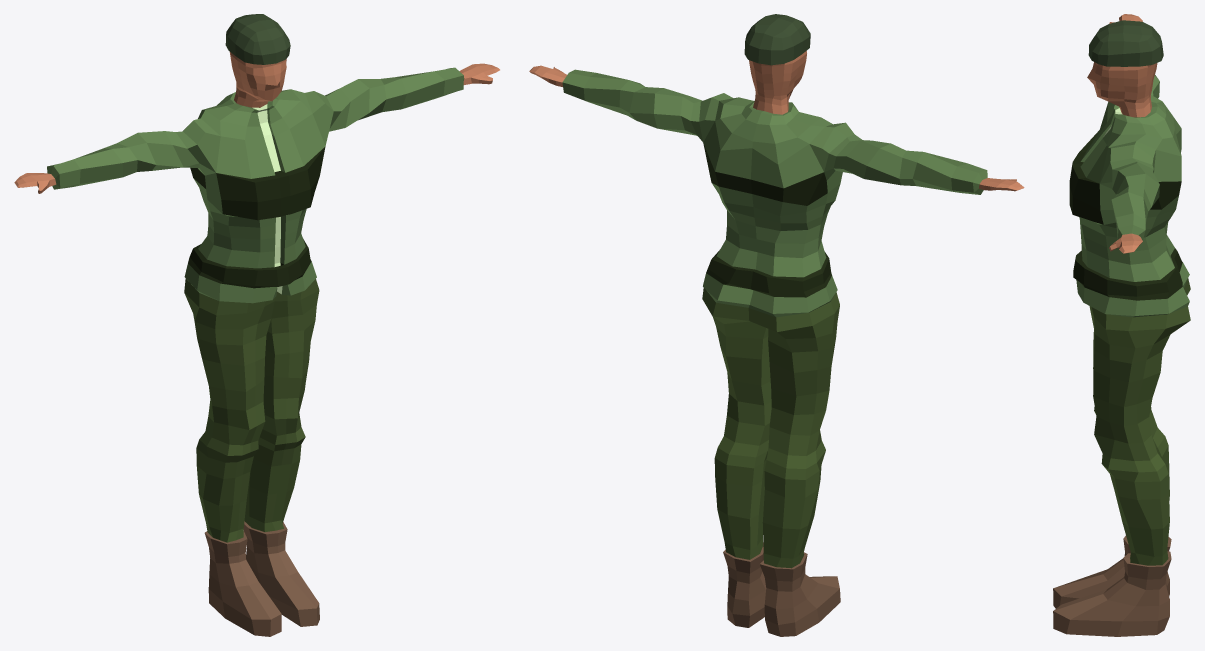
The model's file is Soldier.fbx.
The picture shows the model from 3 angles, left to right: view 1: azimuth 30°, elevation 25°; view 2: azimuth 150°, elevation 25°; view 3: azimuth 270°, elevation 25°; orthographic projection.
Parts seen in each view (by area): view 1: Upper Body Clothes; view 2: Upper Body Clothes; view 3: Upper Body Clothes.
Part boxes in pixels (bbox=[...]): Upper Body Clothes: bbox=[14, 14, 499, 636]; Upper Body Clothes: bbox=[529, 14, 1024, 636]; Upper Body Clothes: bbox=[1053, 14, 1190, 636].
Size of the model in its own units: 389 by 453 by 95.
